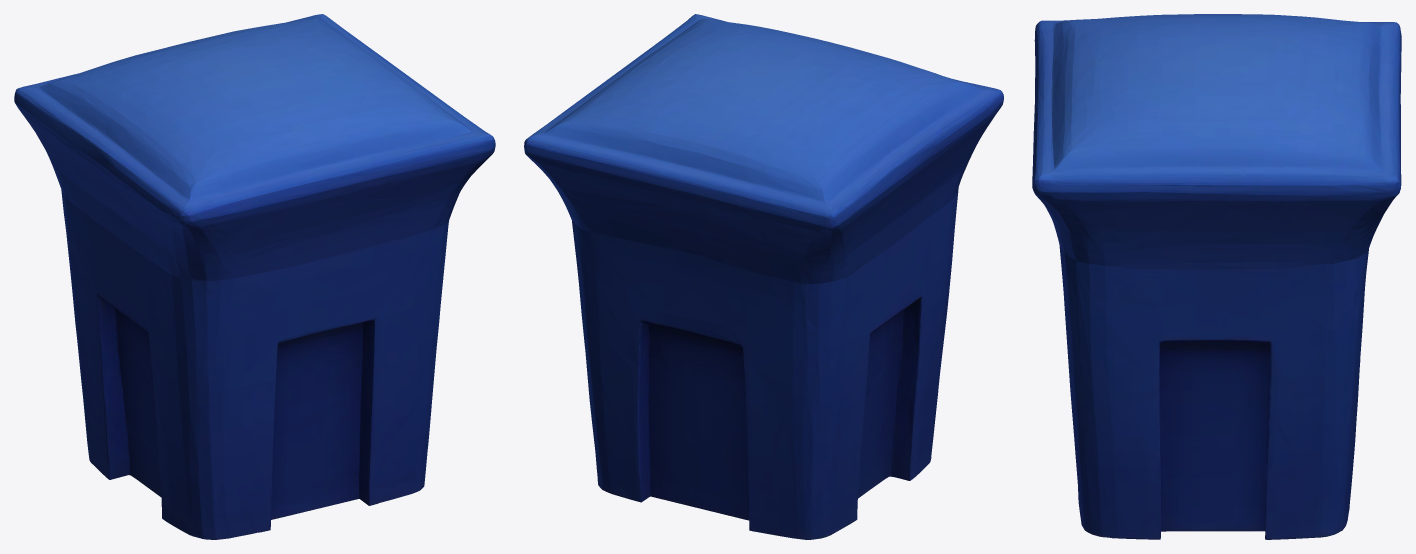
The model's file is trash_bin_navy.glb.
3 renders of one model, left to right at view 1: azimuth 30°, elevation 25°; view 2: azimuth 150°, elevation 25°; view 3: azimuth 270°, elevation 25°, orthographic. The views are drawn at different scales.
Parts seen in each view (by area): view 1: geometry_0; view 2: geometry_0; view 3: geometry_0.
Part boxes in pixels (left/top/right/bottom): geometry_0: left=14, top=14, right=495, bottom=539; geometry_0: left=524, top=14, right=1003, bottom=539; geometry_0: left=1032, top=14, right=1401, bottom=539.
Bounding box in the file's own units: 0.8331 × 1 × 0.8006.
Materials: 1 (1 with a texture image).
